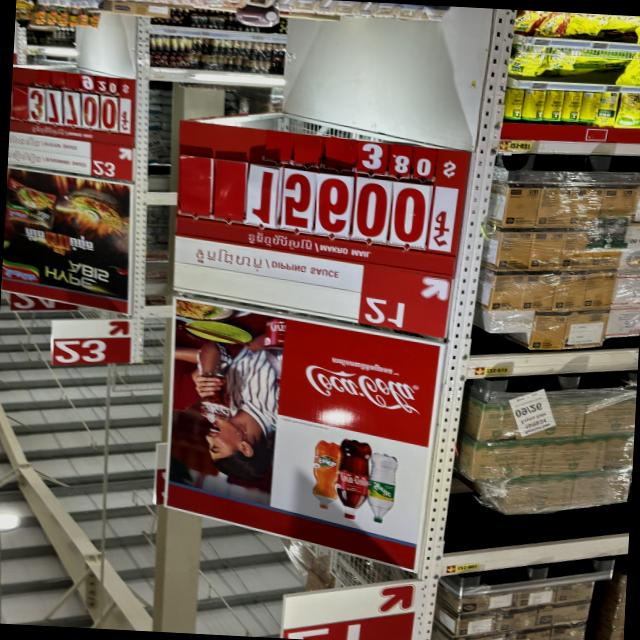Yolov11kh: (189, 244, 270, 278), (239, 225, 321, 258)
